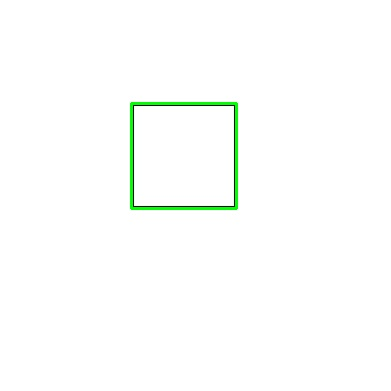line_segment: (130, 102, 238, 210)
